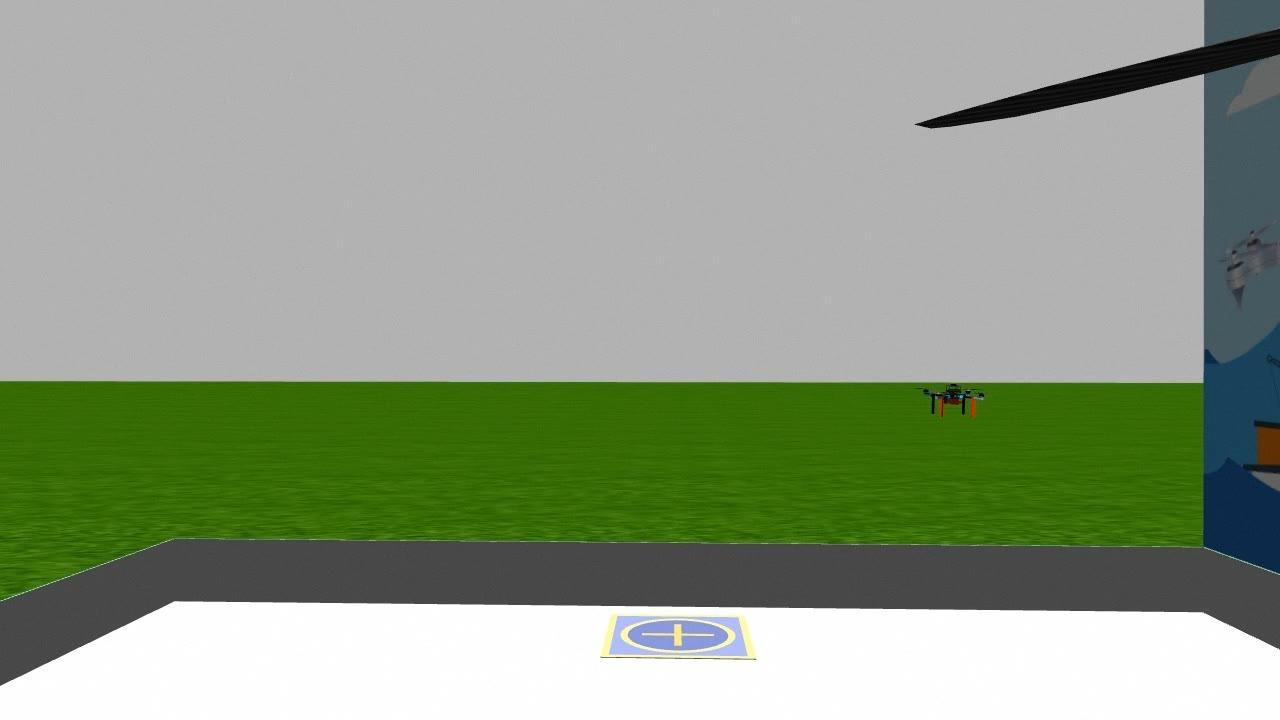UAV: (918, 374, 992, 424)
